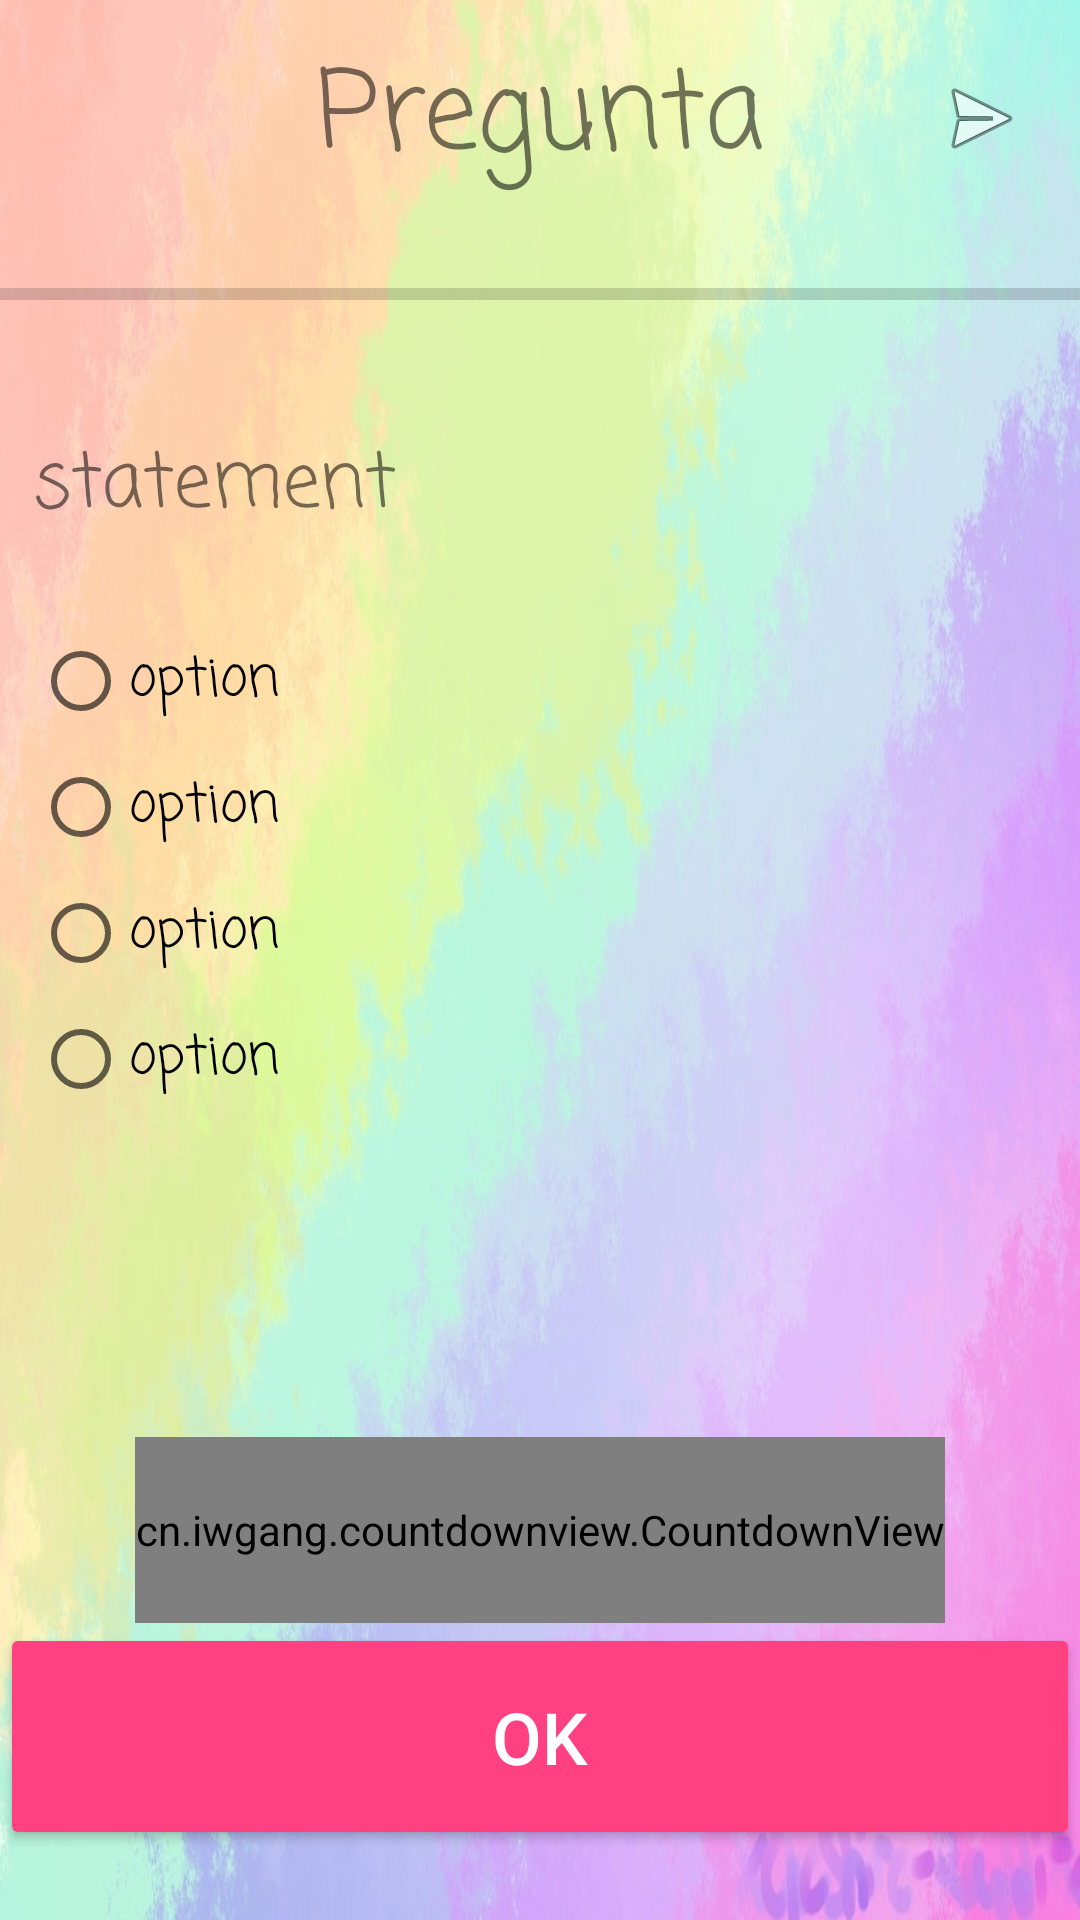

Named icons in this screenshot (1080 × 1920) and their centers, [x,y]:
send: [982,96]
